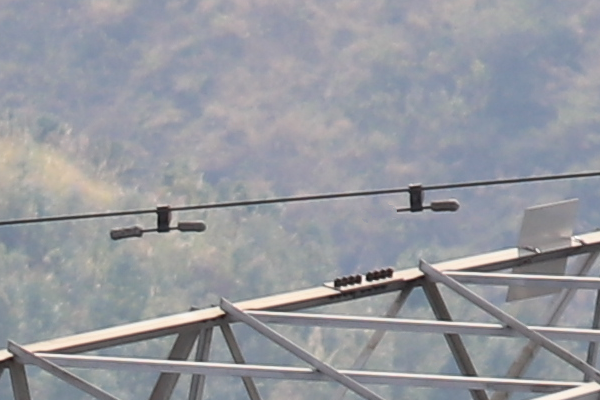damper: (109, 203, 209, 242)
damper_defect: (387, 181, 463, 217)
